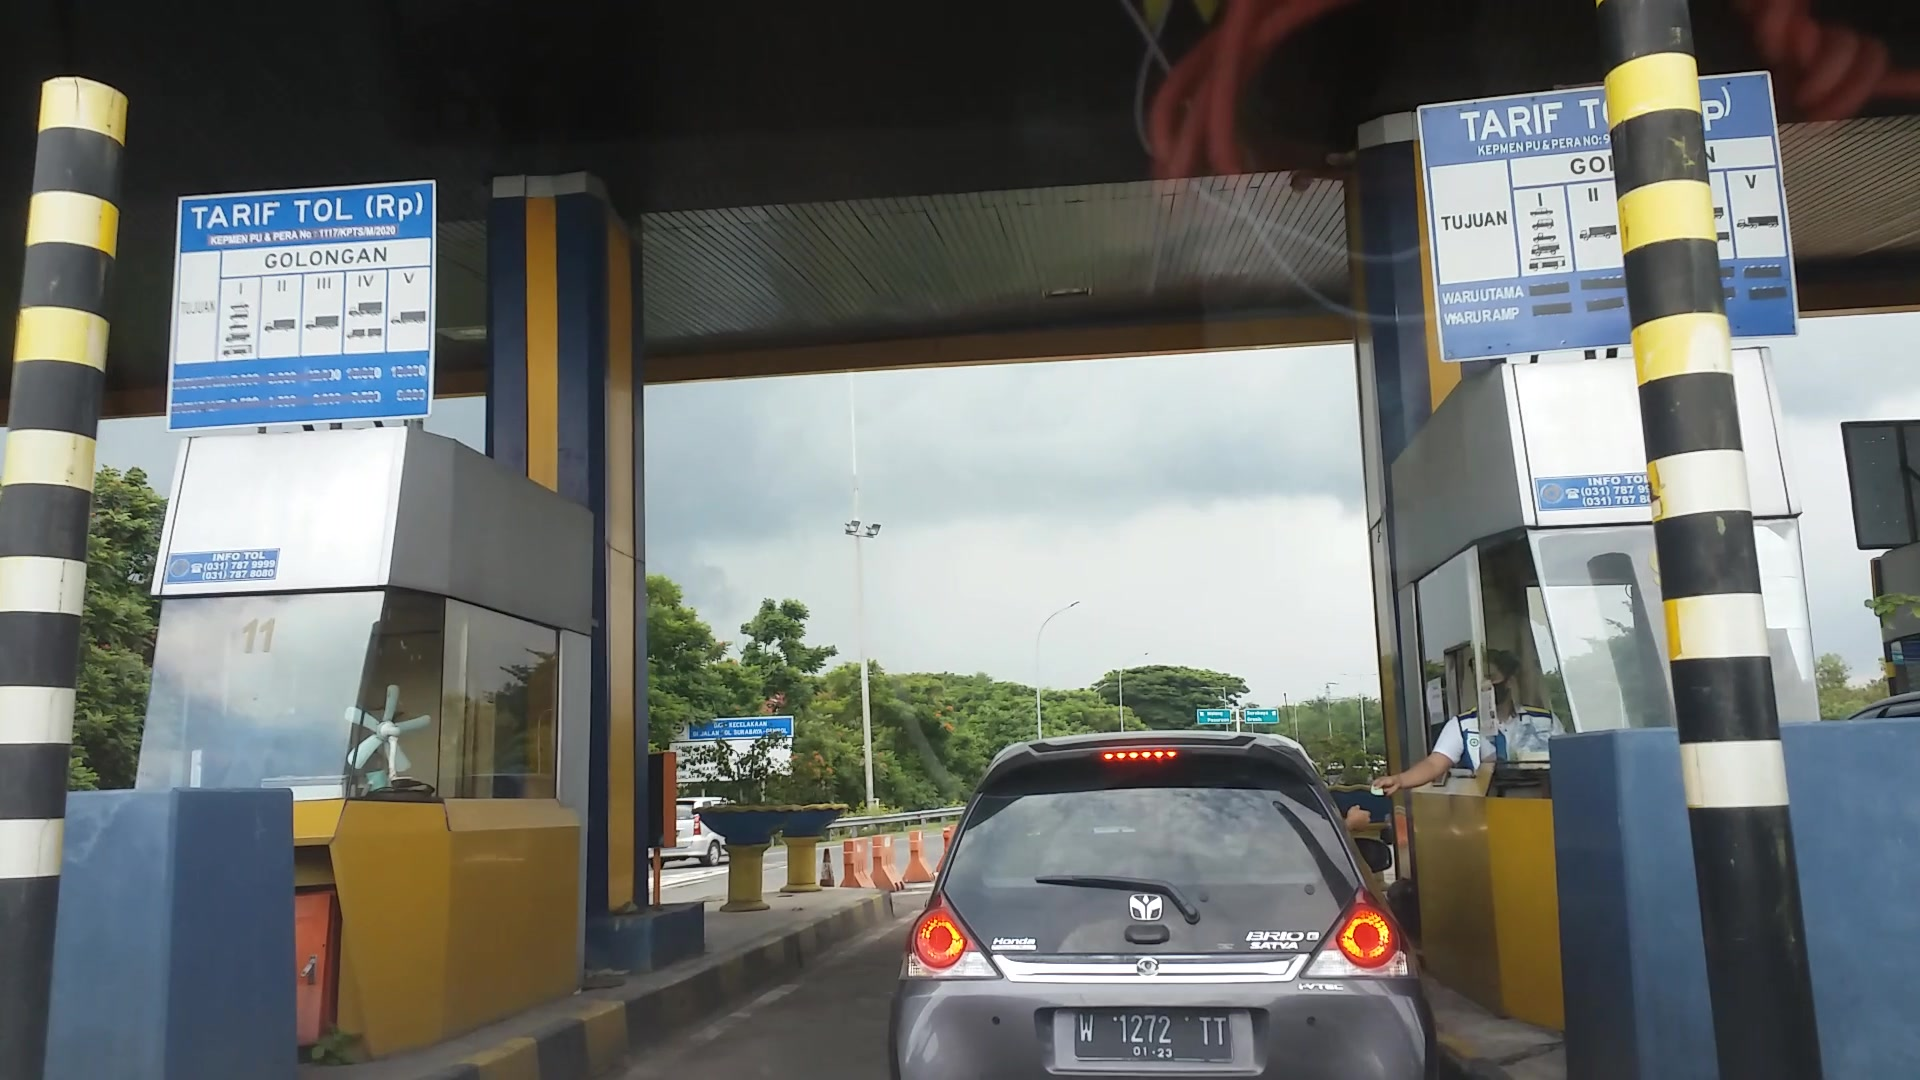plate_positive: (1075, 1007, 1234, 1062)
